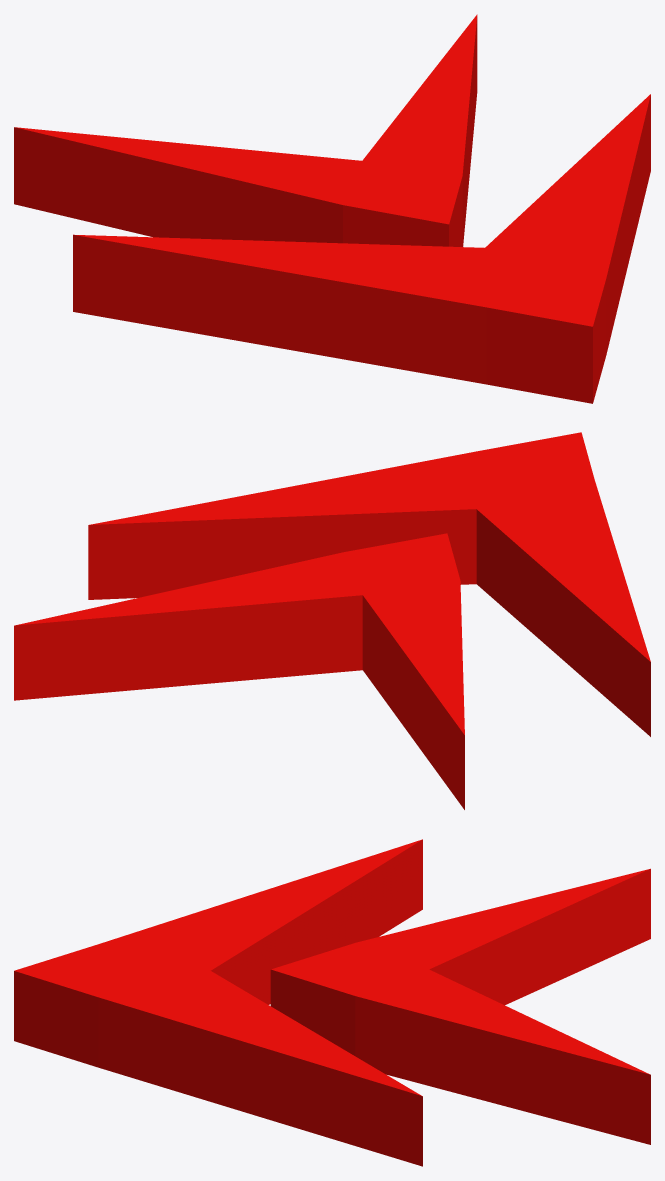
Rendered from ArrowUp.obj.
3 renders of one model, top to bottom at view 1: azimuth 30°, elevation 25°; view 2: azimuth 150°, elevation 25°; view 3: azimuth 270°, elevation 25°, orthographic. The views are drawn at different scales.
Parts seen in each view (by area): view 1: Cube; view 2: Cube; view 3: Cube.
Boxes of the visible parts, x1,y1,x2,y2 form: Cube: [14, 14, 650, 403]; Cube: [14, 432, 650, 809]; Cube: [14, 839, 650, 1166].
Size of the model in its own units: 4.75 by 0.606 by 4.98.
Materials: 1 (1 with a texture image).
